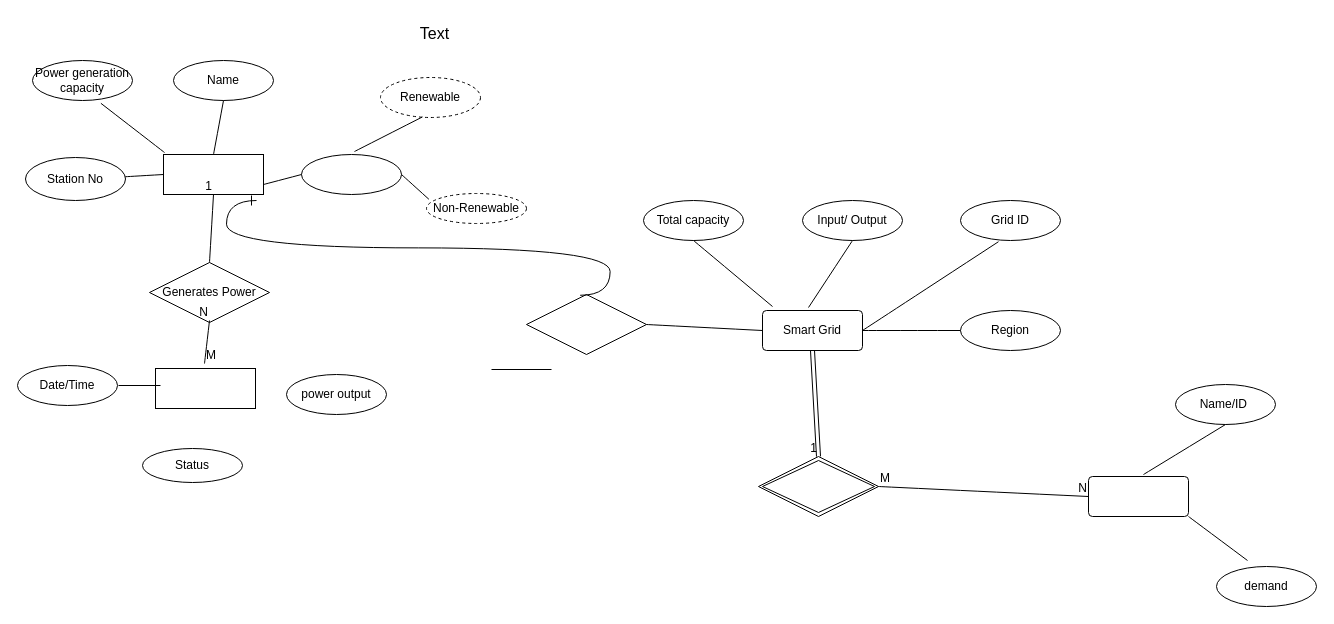
Some shapes in this 1334 by 624 pixel diagram are drawn without their labels. The shapes that lost their labels are listed below. From the top down, each one's centre as x and y in pixels, then its label:
At (213,174): "Power Station".
At (351,174): "Type".
At (586,324): "Receives Power".
At (205,388): "Power Generation".
At (818,486): "Power Distrbution".
At (1138,496): "Substation".
